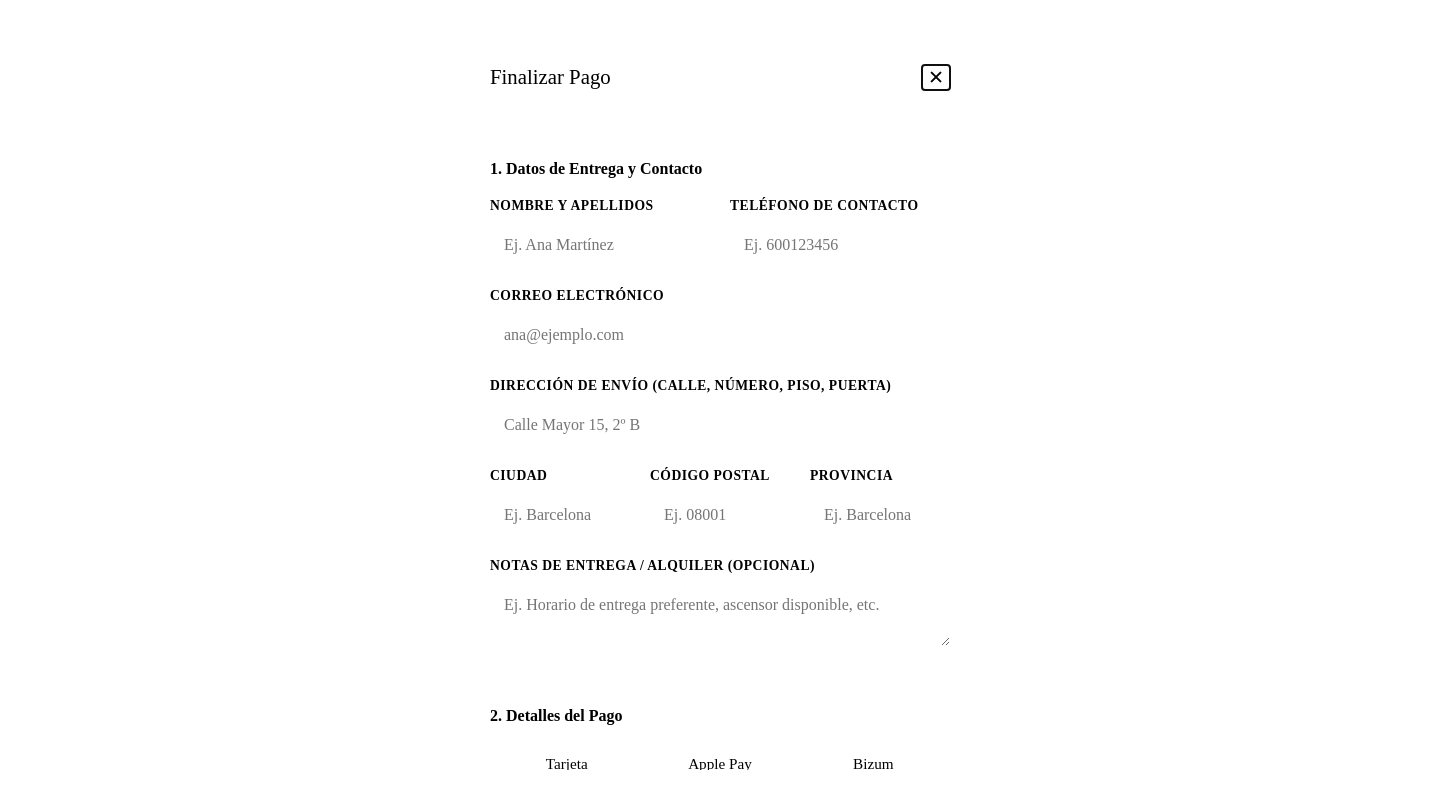
Test: CheckoutModal — validación del formulario › con todos los campos válidos, el botón de pago se habilita
Type "Ana Martínez" into the field labelled "Nombre y Apellidos" at (600, 244), box [490,222,710,268]
Type "600123456" into the field labelled "Teléfono de Contacto" at (840, 244), box [730,222,950,268]
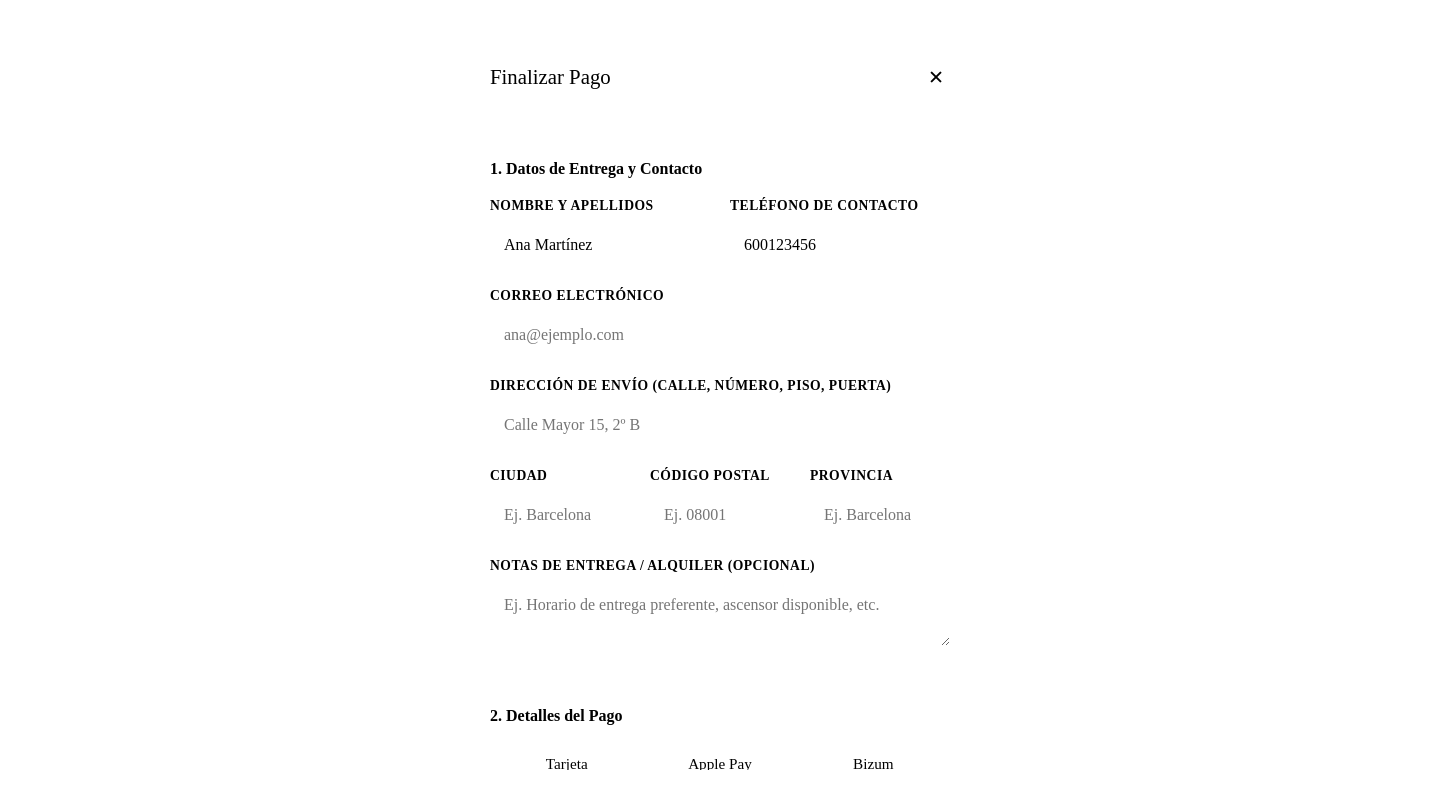
Type "ana@example.com" into the field labelled "Correo Electrónico" at (720, 334), box [490,312,950,358]
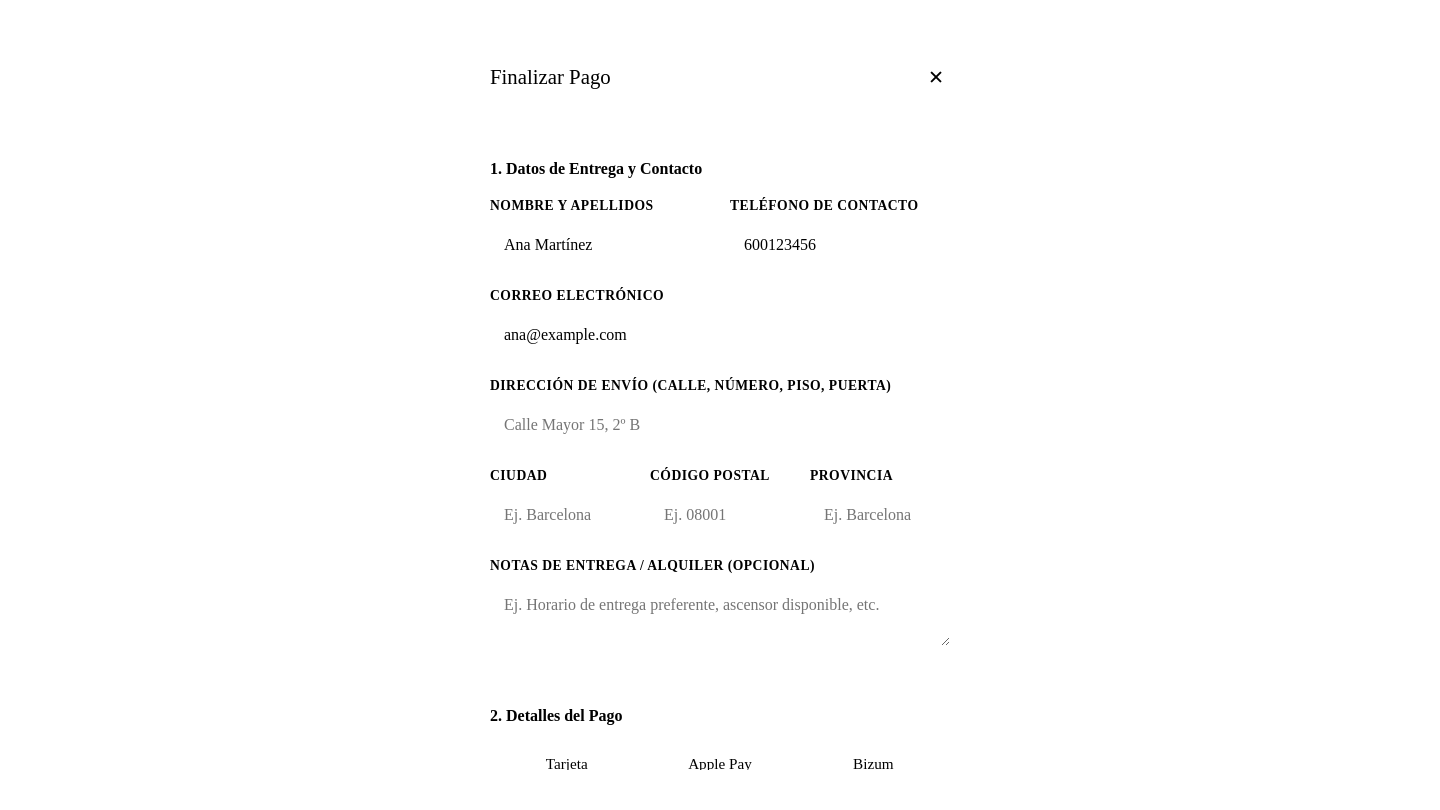
Type "Calle Mayor 15" into the field labelled "Dirección de Envío (Calle, número, piso, puerta)" at (720, 424), box [490,402,950,448]
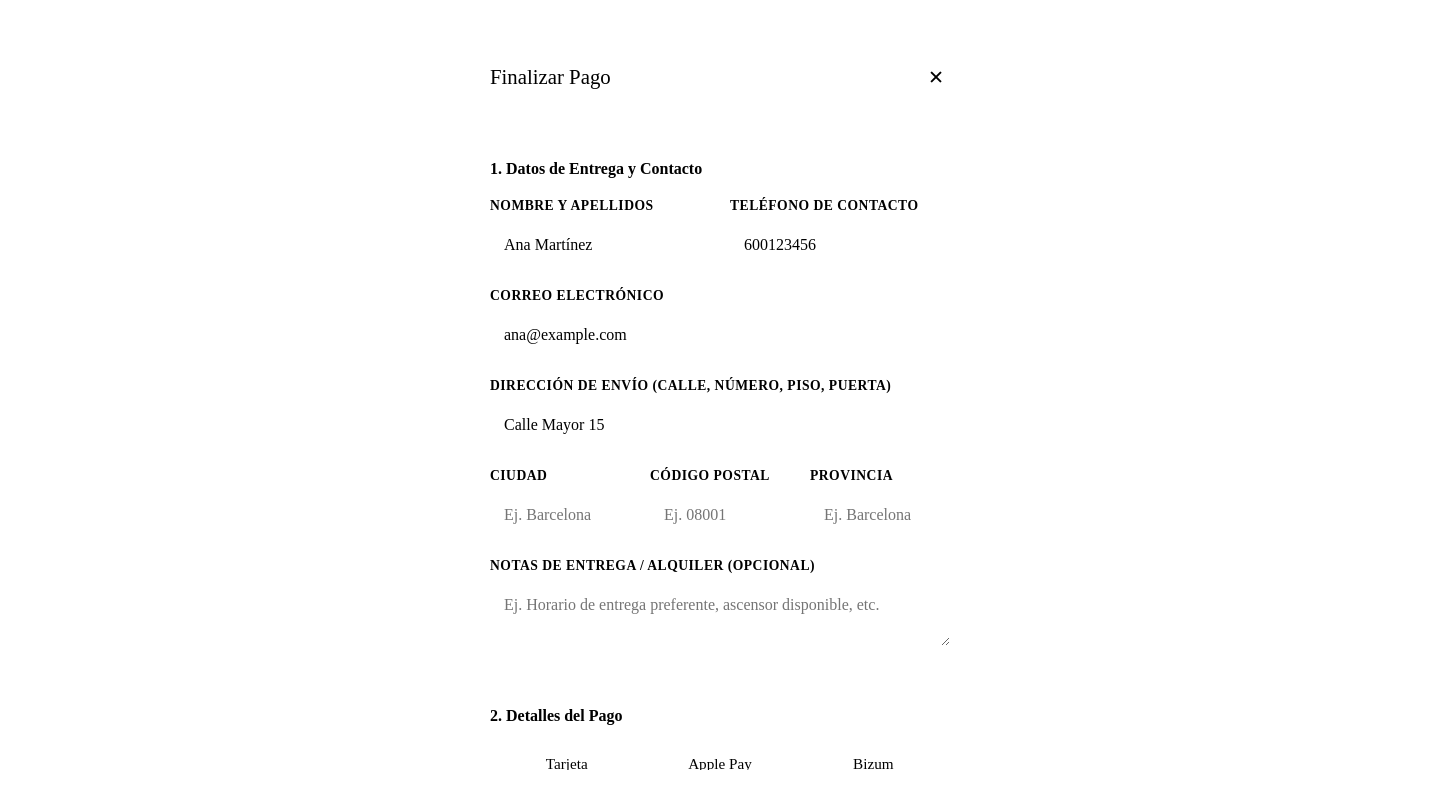
Type "Barcelona" into the field labelled "Ciudad" at (560, 514), box [490,492,630,538]
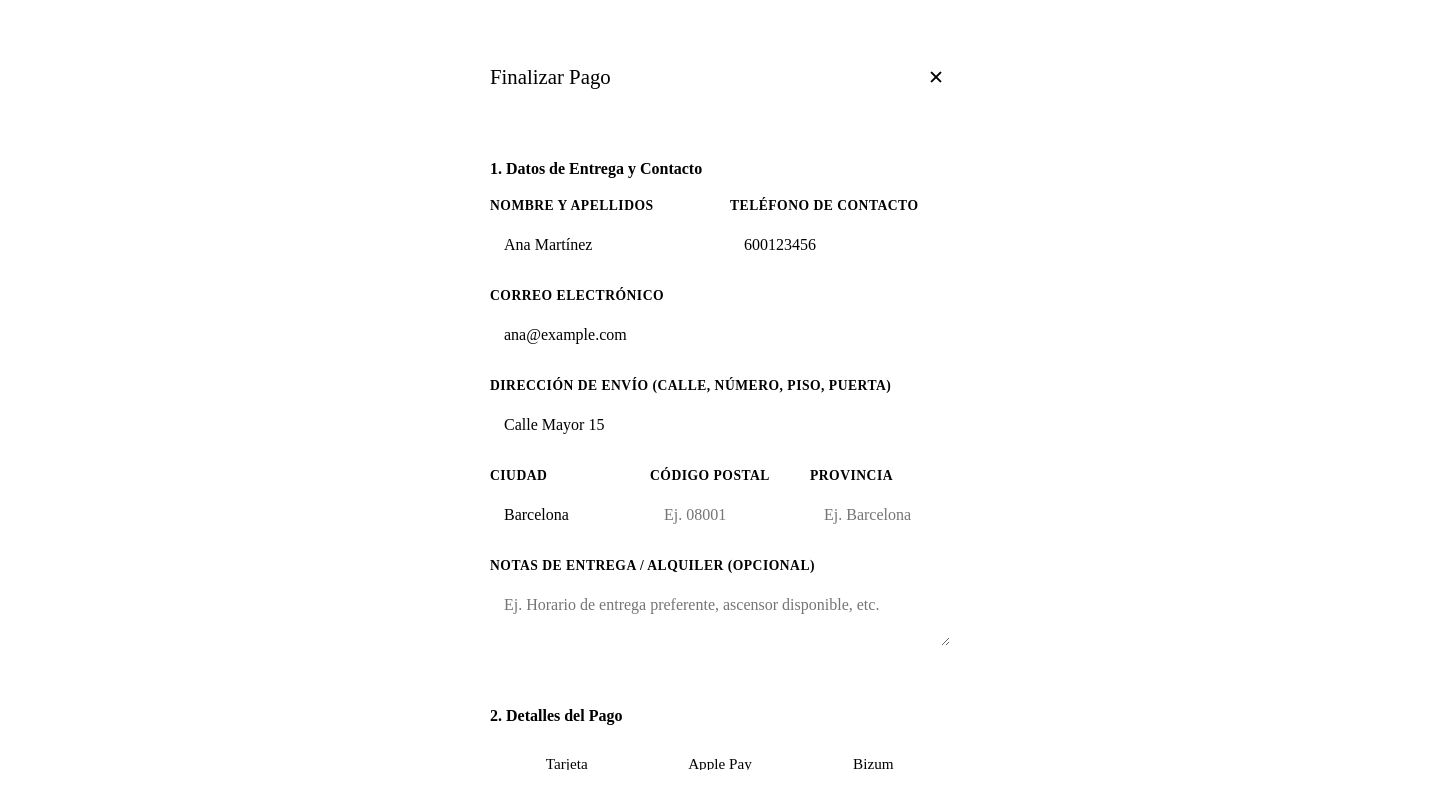
Type "08001" into the field labelled "Código Postal" at (720, 514), box [650,492,790,538]
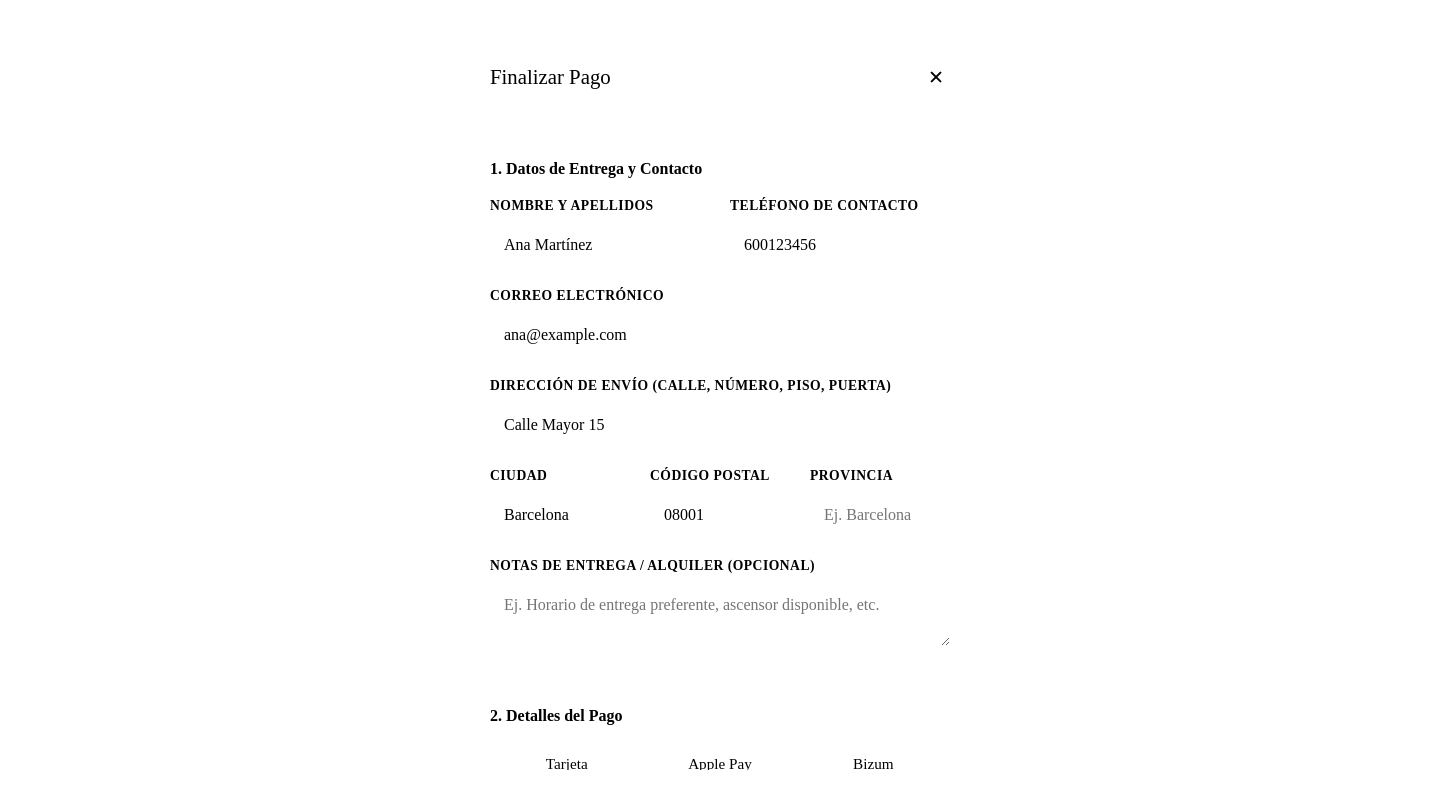
Type "Barcelona" into the field labelled "Provincia" at (880, 514), box [810,492,950,538]
(page scrolled)
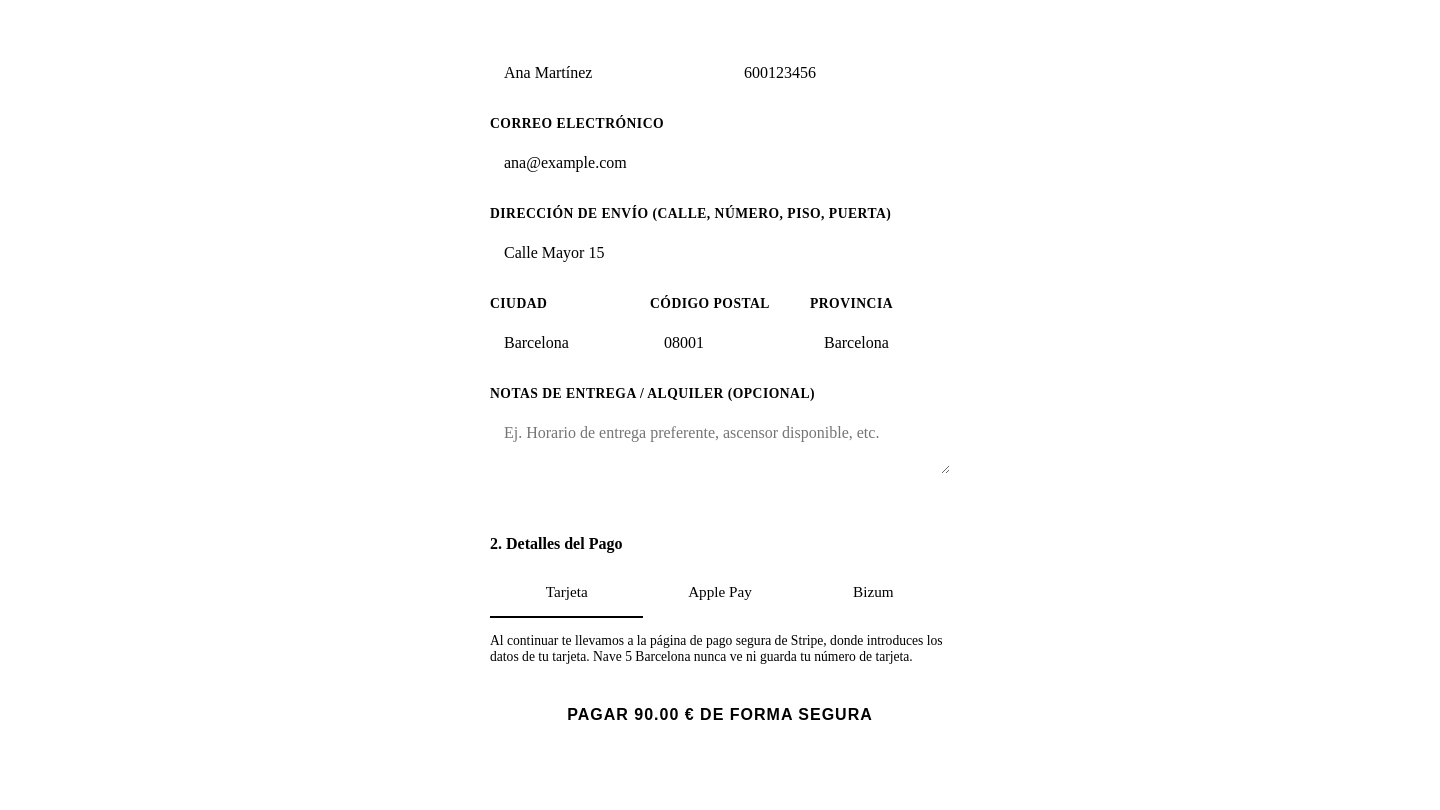
Expected: the button "Pagar 90.00 € de forma segura" is enabled, [490,690,950,740]
